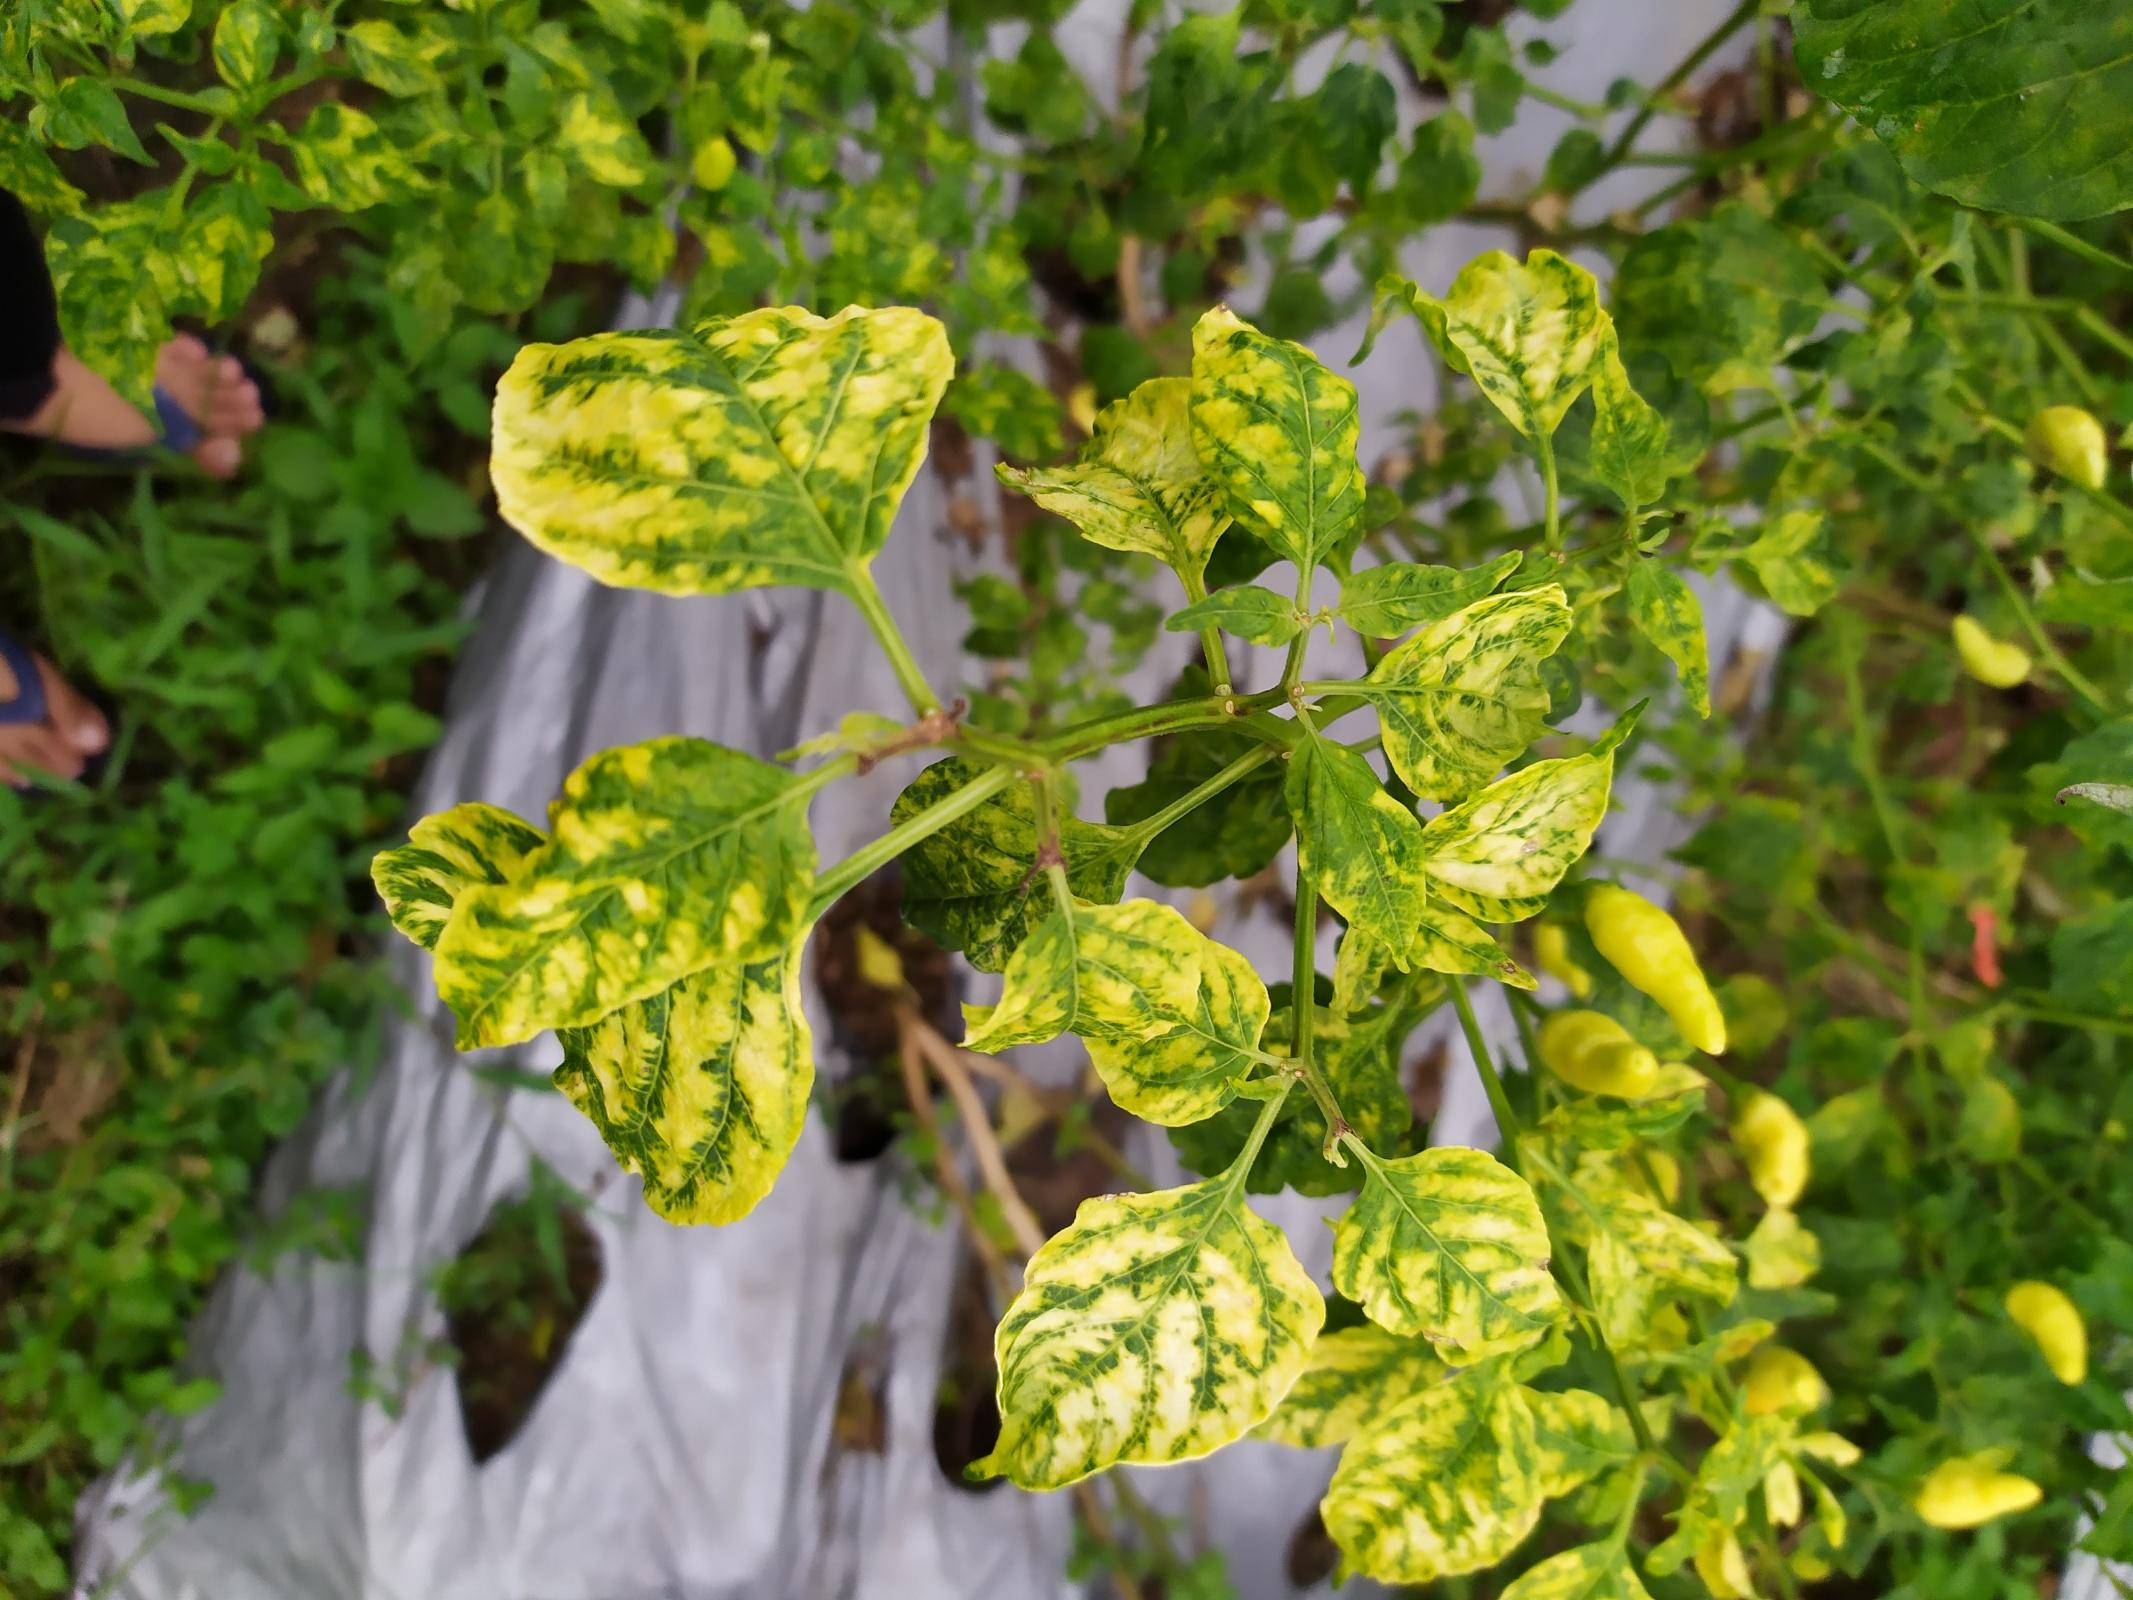cabai_normal: (1585, 882, 1726, 1055), (1540, 1008, 1659, 1097), (1730, 1076, 1807, 1203), (1913, 1461, 2044, 1528), (2007, 1281, 2086, 1385), (2029, 407, 2108, 492), (1955, 617, 2032, 686)
